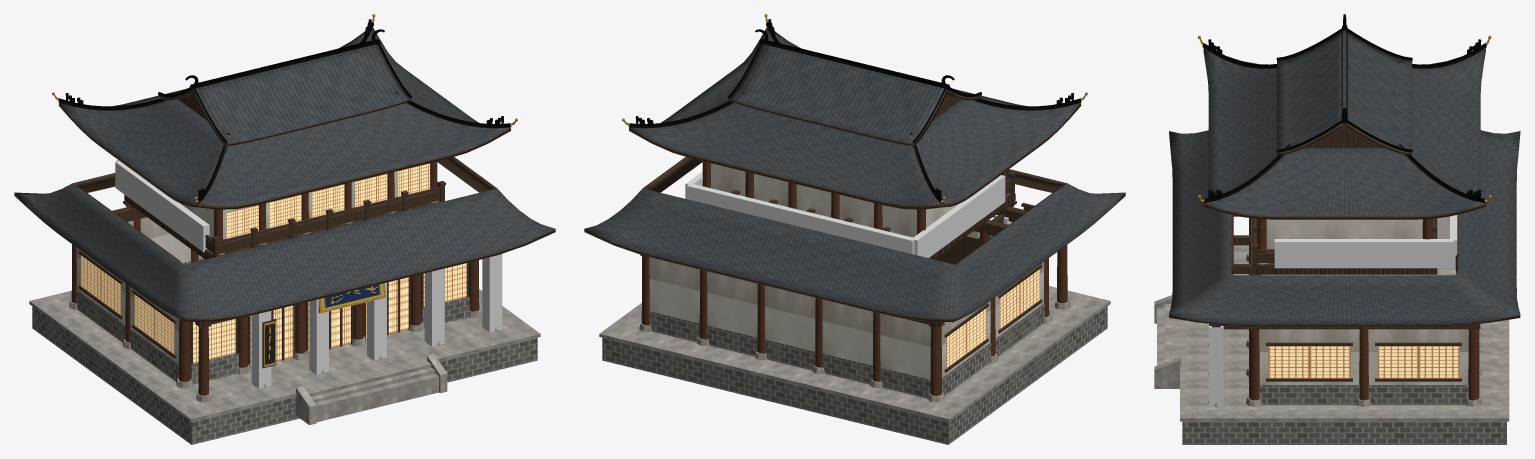
File: tavern.glb
3 renders of one model, left to right at view 1: azimuth 30°, elevation 25°; view 2: azimuth 150°, elevation 25°; view 3: azimuth 270°, elevation 25°, orthographic.
Parts seen in each view (by area): view 1: TavernLowSkirt, TavernLowerRoof, TavernPodiumCap, TavernGable, TavernPodiumBase, TavernLattice, TavernColumns, TavernUpperLattice, TavernStairsfront, TavernBalconyBalustrade, TavernDado, TavernBalconyRail-convcolonly.003 (+16 smaller); view 2: TavernLowSkirt, TavernLowerRoof, TavernWalls, TavernGable, TavernPodiumBase, TavernPodiumCap, TavernDado, TavernColumns, TavernUpperWalls, TavernBalconyRail-convcolonly.002, TavernBalconyRail-convcolonly.003, TavernLattice (+7 smaller); view 3: TavernLowSkirt, TavernLowerRoof, TavernPodiumCap, TavernGable, TavernPodiumBase, TavernLattice, TavernBalconyRail-convcolonly.001, TavernWalls, TavernDado, TavernUpperWalls, TavernColumns, TavernBeams (+12 smaller).
Part boxes in pixels (x1,y1,x2,y2): TavernLowSkirt: (14, 157, 555, 322); TavernLowerRoof: (58, 27, 511, 209); TavernPodiumCap: (29, 289, 540, 421); TavernGable: (159, 44, 410, 146); TavernPodiumBase: (32, 306, 537, 444); TavernLattice: (80, 255, 466, 367); TavernColumns: (71, 216, 479, 395); TavernUpperLattice: (226, 163, 430, 238); TavernStairsfront: (307, 361, 438, 421); TavernBalconyBalustrade: (205, 181, 445, 257); TavernDado: (76, 258, 469, 384); TavernBalconyRail-convcolonly.003: (115, 161, 209, 252); TavernLowSkirt: (584, 157, 1125, 322); TavernLowerRoof: (628, 27, 1081, 209); TavernWalls: (649, 231, 1044, 379); TavernGable: (729, 44, 980, 146); TavernPodiumBase: (602, 306, 1107, 444); TavernPodiumCap: (599, 286, 1110, 421); TavernDado: (649, 303, 1044, 398); TavernColumns: (641, 230, 1067, 395); TavernUpperWalls: (711, 163, 958, 237); TavernBalconyRail-convcolonly.002: (686, 183, 915, 254); TavernBalconyRail-convcolonly.003: (913, 175, 1005, 257); TavernLattice: (946, 269, 1039, 368); TavernLowSkirt: (1169, 130, 1520, 326); TavernLowerRoof: (1203, 48, 1485, 219); TavernPodiumCap: (1180, 245, 1509, 421); TavernGable: (1277, 30, 1412, 155); TavernPodiumBase: (1182, 421, 1506, 444); TavernLattice: (1268, 346, 1459, 378); TavernBalconyRail-convcolonly.001: (1274, 239, 1453, 268); TavernWalls: (1259, 216, 1468, 384); TavernDado: (1259, 385, 1468, 404); TavernUpperWalls: (1266, 219, 1422, 252); TavernColumns: (1249, 218, 1479, 400); TavernBeams: (1209, 215, 1480, 330).
Size of what is drawn, in the model's own units: 17.91 by 13.53 by 15.11.
13 materials, 13 textured.
